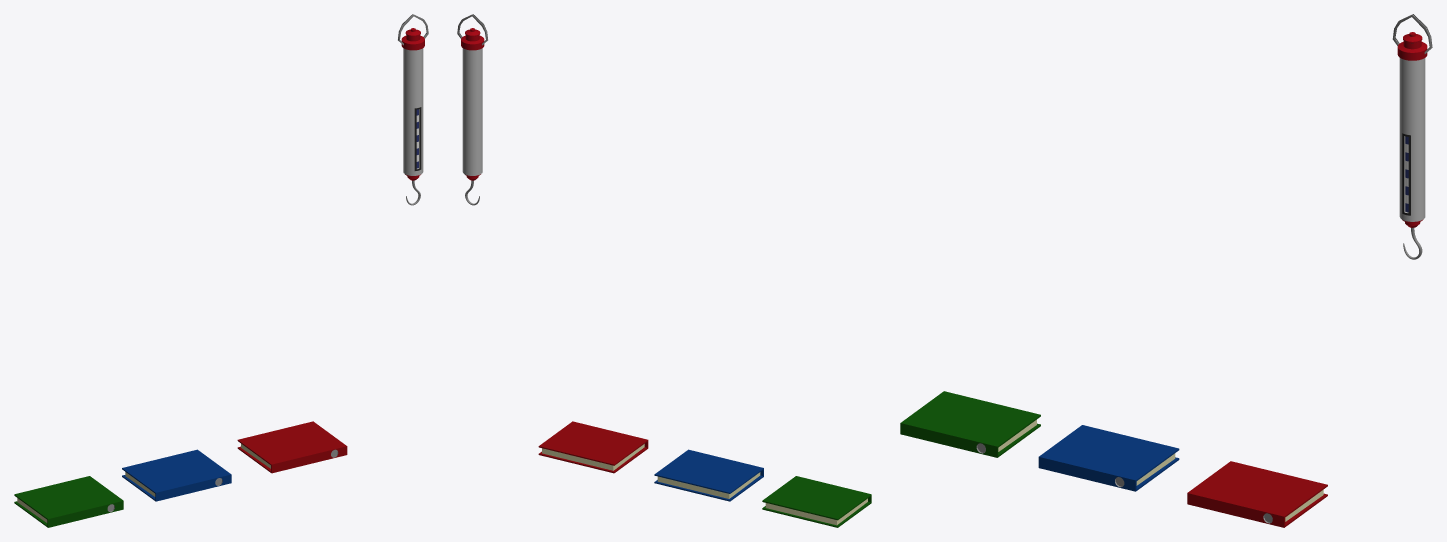
File: dinamometre.fbx
The picture shows the model from 3 angles, left to right: view 1: azimuth 30°, elevation 25°; view 2: azimuth 150°, elevation 25°; view 3: azimuth 330°, elevation 25°; orthographic projection. The views are drawn at different scales.
Visible parts, largest first — view 1: Folder, Folder.001, Folder.002, Cylinder; view 2: Folder, Folder.001, Folder.002, Cylinder; view 3: Folder.001, Folder.002, Folder, Cylinder.
Boxes of the visible parts, <box> form: Folder: <box>237,421,347,473</box>; Folder.001: <box>122,449,231,501</box>; Folder.002: <box>14,476,123,527</box>; Cylinder: <box>398,14,428,175</box>; Folder: <box>538,421,648,473</box>; Folder.001: <box>654,449,763,501</box>; Folder.002: <box>762,476,871,527</box>; Cylinder: <box>457,14,487,175</box>; Folder.001: <box>1038,425,1179,491</box>; Folder.002: <box>900,391,1040,457</box>; Folder: <box>1187,461,1327,527</box>; Cylinder: <box>1392,14,1432,221</box>.
Size of the model in its own units: 4587 by 4503 by 680.
